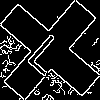L: (25, 25, 76, 77)
